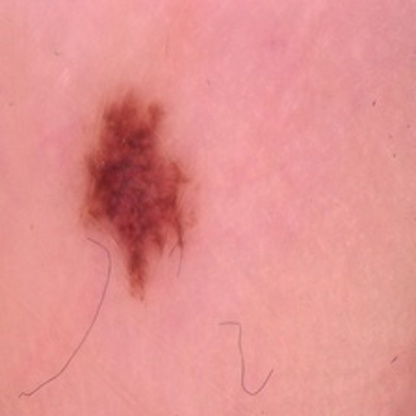benign: (82, 106, 195, 277)
